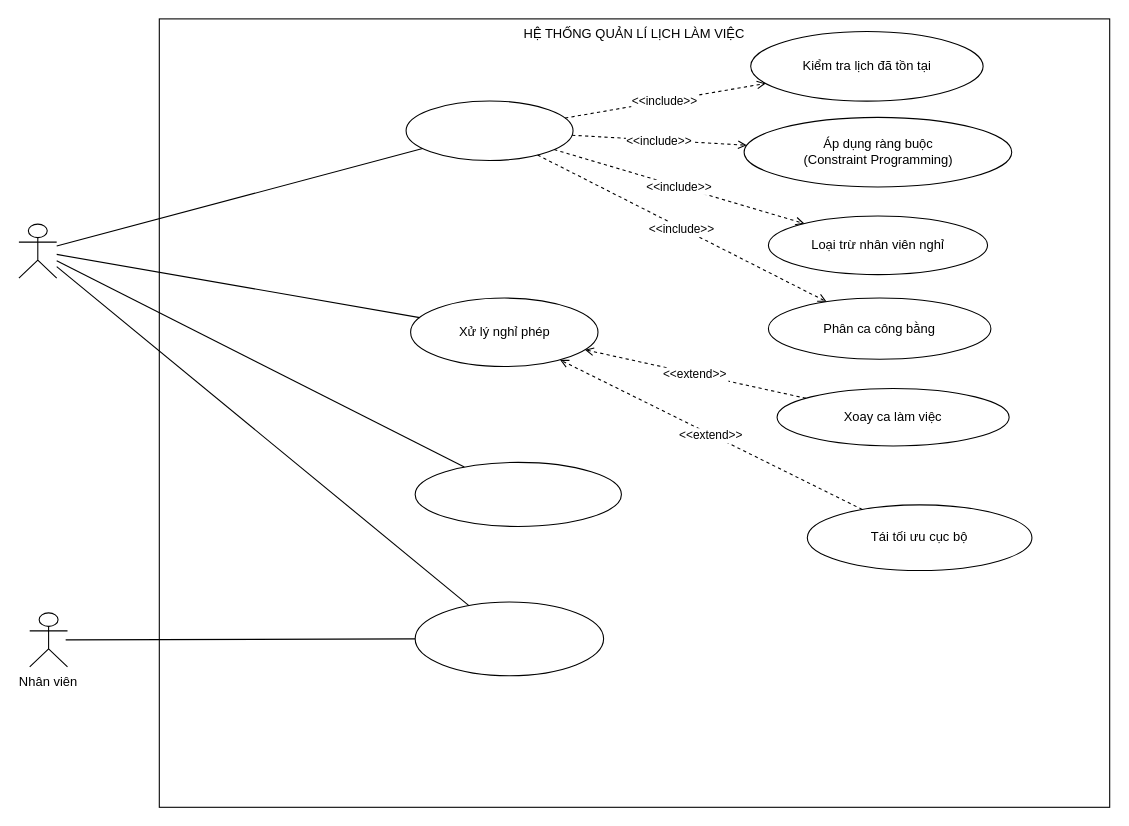
Image size: 1129x826. Some labels were removed from this diagram. The shapes that lost their labels are listed below. From the top down, each one's box as (x1, y1, x2, y2) in pixels, then its label:
(405, 100, 573, 160): Tạo lịch làm việc tự động
(18, 223, 57, 278): Admin
(414, 461, 621, 526): Thêm / cập nhật nghỉ phép nhân viên
(414, 601, 604, 676): Xem lịch làm việc
